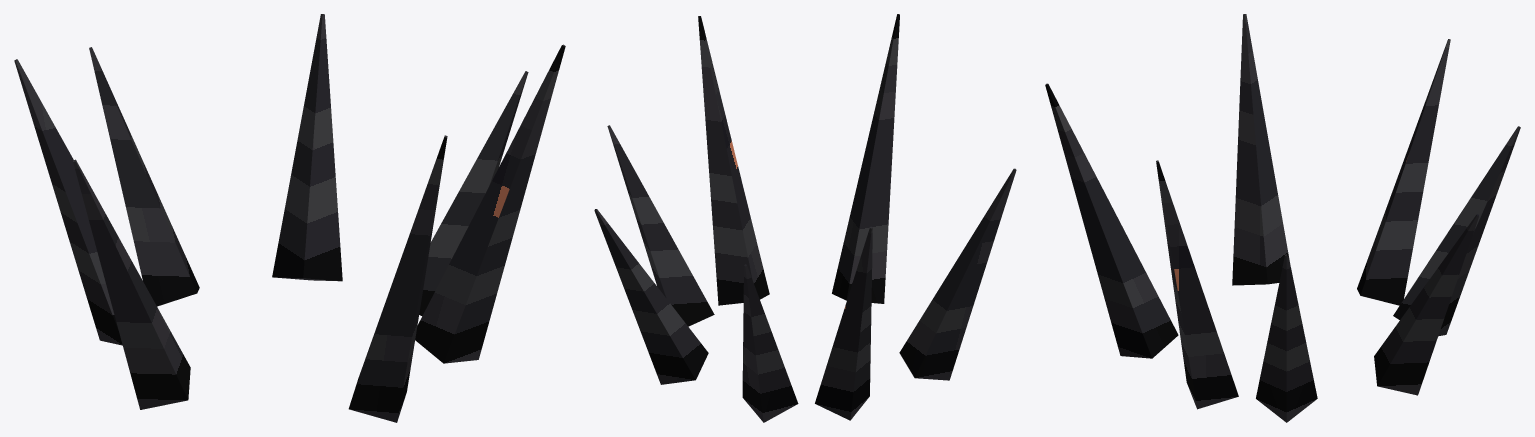
The model's file is enfeite_capim.glb.
3 views of the same model, side by side, from view 1: azimuth 30°, elevation 25°; view 2: azimuth 150°, elevation 25°; view 3: azimuth 270°, elevation 25° (orthographic). The views are drawn at different scales.
Visible parts, largest first — view 1: vulcao_enfeite_capim; view 2: vulcao_enfeite_capim; view 3: vulcao_enfeite_capim.
Part boxes in pixels (box(x1,y1,x2,y2)): vulcao_enfeite_capim: box(14, 14, 565, 422); vulcao_enfeite_capim: box(594, 14, 1016, 422); vulcao_enfeite_capim: box(1045, 14, 1520, 422).
Bounding box in the file's own units: 0.2797 × 0.1784 × 0.2765.
1 material, 1 textured.
